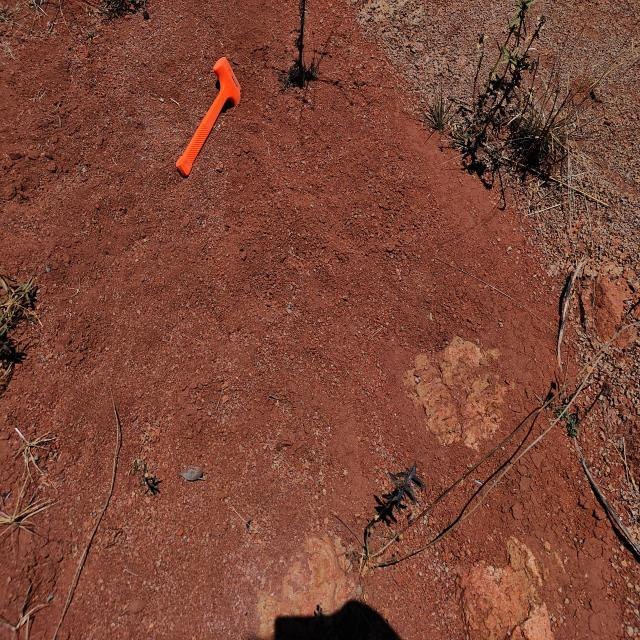Orange_hammer: (175, 56, 241, 178)
